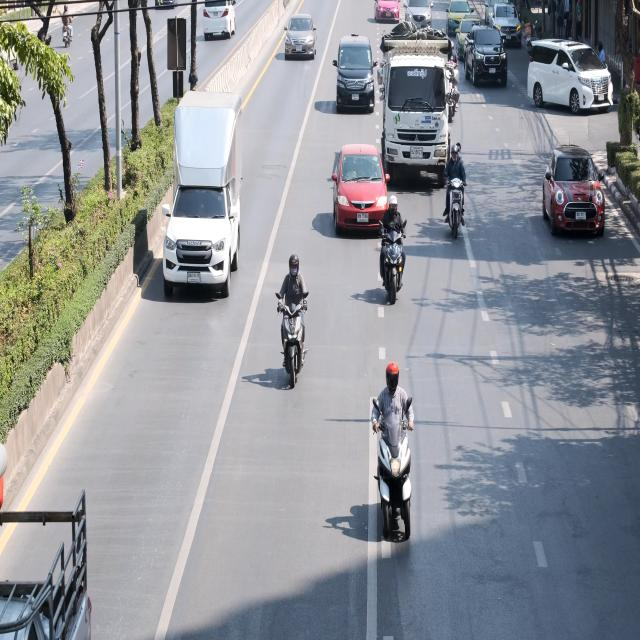cars: (161, 81, 257, 313), (373, 29, 457, 196), (522, 34, 616, 130), (324, 136, 399, 251), (540, 145, 608, 254), (328, 20, 373, 111), (464, 18, 510, 96), (278, 7, 318, 81), (485, 1, 526, 57), (201, 0, 235, 54), (459, 8, 492, 61), (446, 0, 478, 40), (405, 0, 436, 37), (369, 0, 403, 25)
motorcycle: (358, 344, 431, 568), (267, 249, 316, 406), (367, 189, 427, 308), (434, 128, 481, 268), (54, 1, 80, 52), (520, 17, 538, 64)
